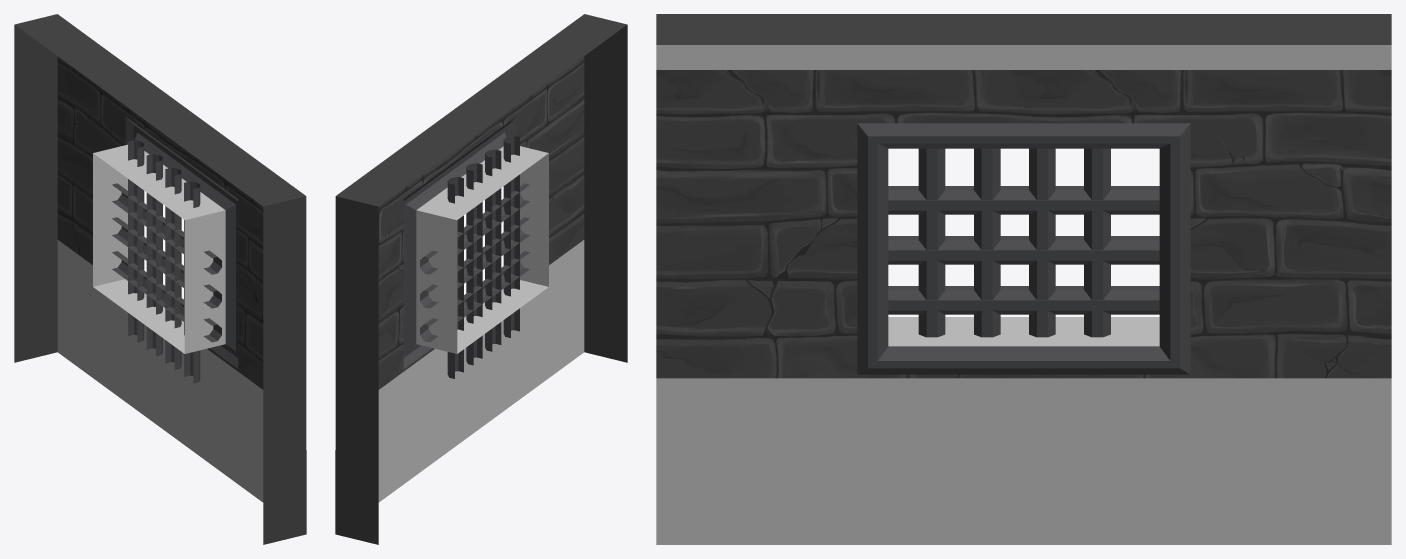
The model's file is SM_ModularKit_WallWindow.fbx.
3 views of the same model, side by side, from view 1: azimuth 30°, elevation 25°; view 2: azimuth 150°, elevation 25°; view 3: azimuth 270°, elevation 25° (orthographic). The views are drawn at different scales.
Visible parts, largest first — view 1: WallWindow; view 2: WallWindow; view 3: WallWindow.
Boxes of the visible parts, x1=… form: WallWindow: x1=14, y1=14, x2=306, y2=544; WallWindow: x1=335, y1=14, x2=627, y2=544; WallWindow: x1=656, y1=14, x2=1391, y2=544.
Size of the model in its own units: 44.29 by 300 by 400.
